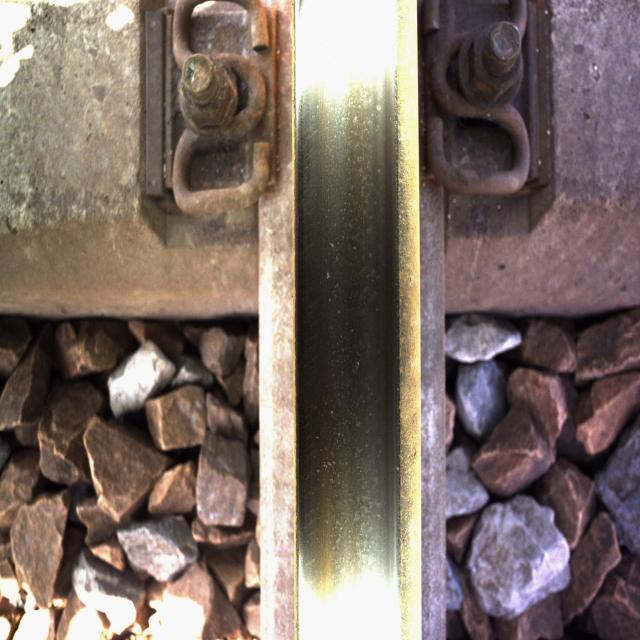normal: (300, 25, 391, 606)
